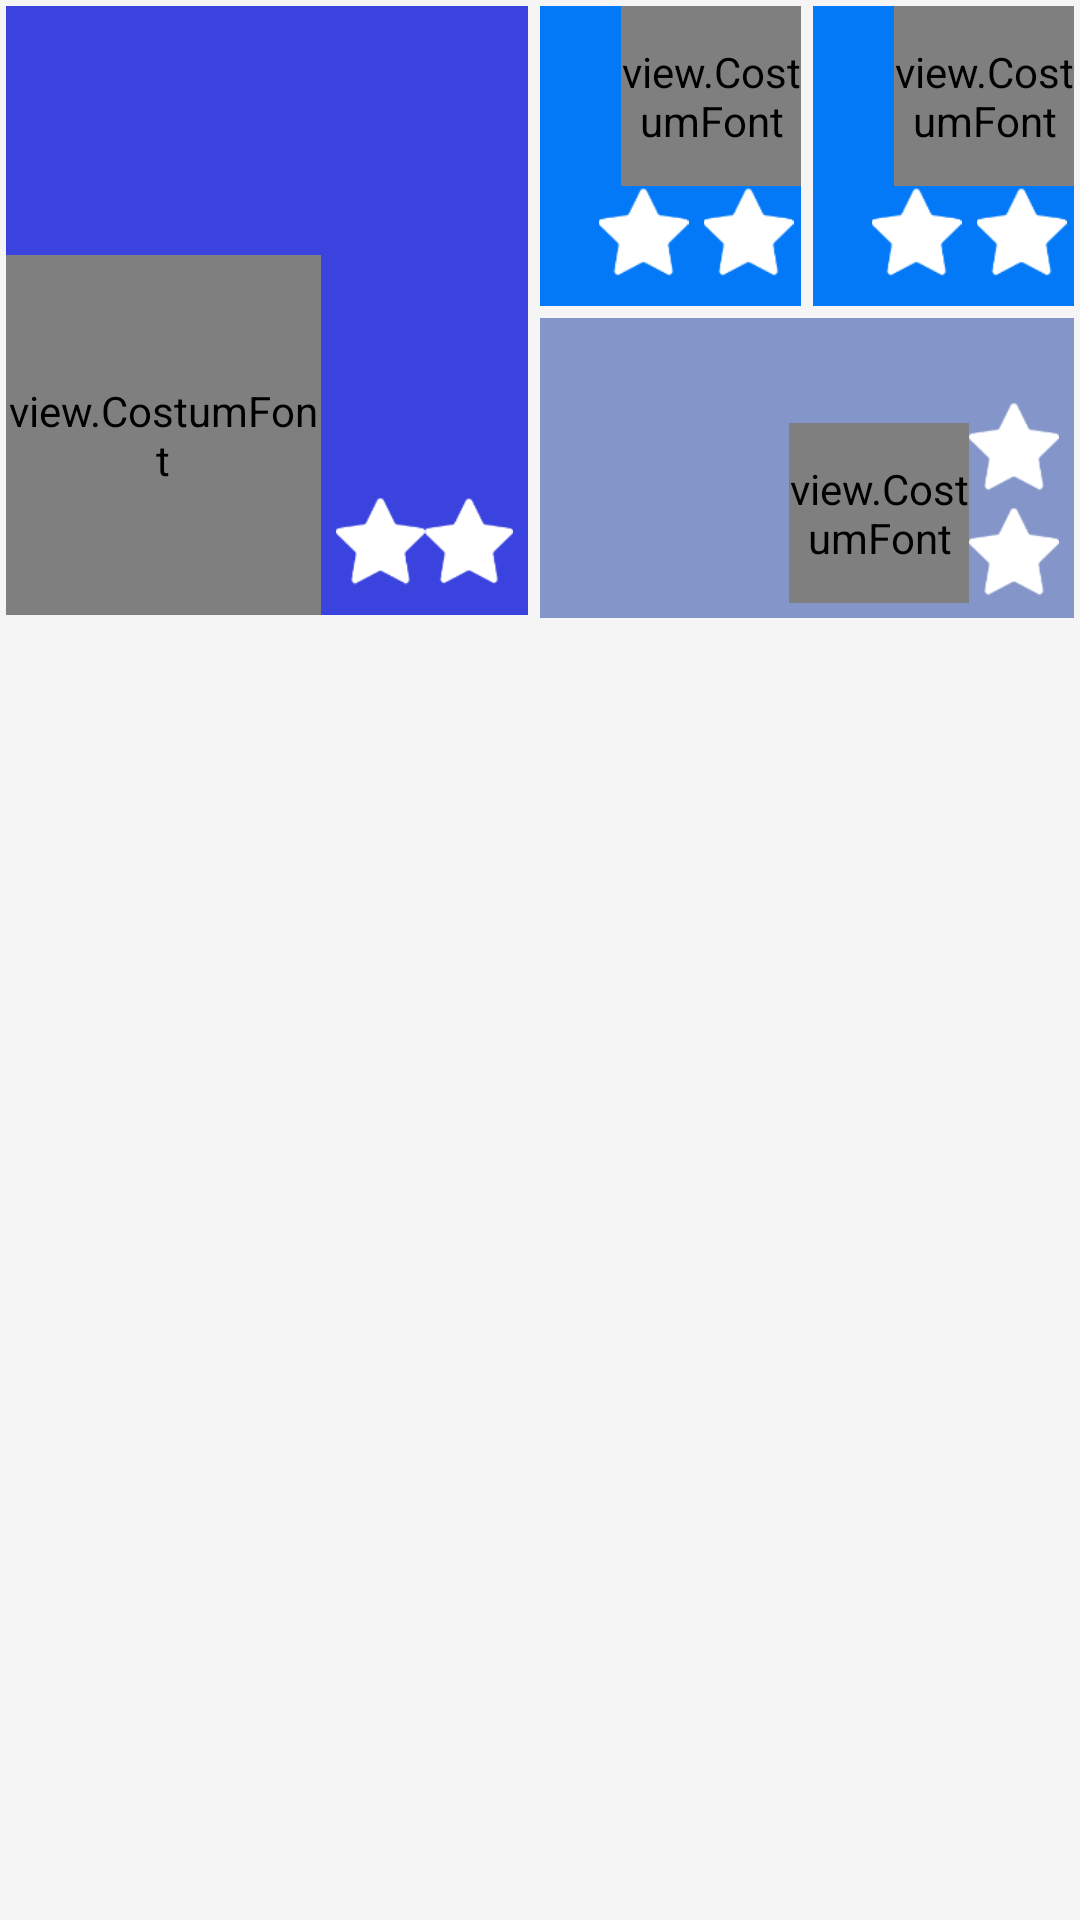

Icon click points for this 1080 x 1920 phone screenshot, format (x=x, y=y):
bintang: (x=644, y=232), (x=749, y=232), (x=917, y=232), (x=1022, y=232), (x=1014, y=446), (x=380, y=541), (x=469, y=541), (x=1014, y=551)
